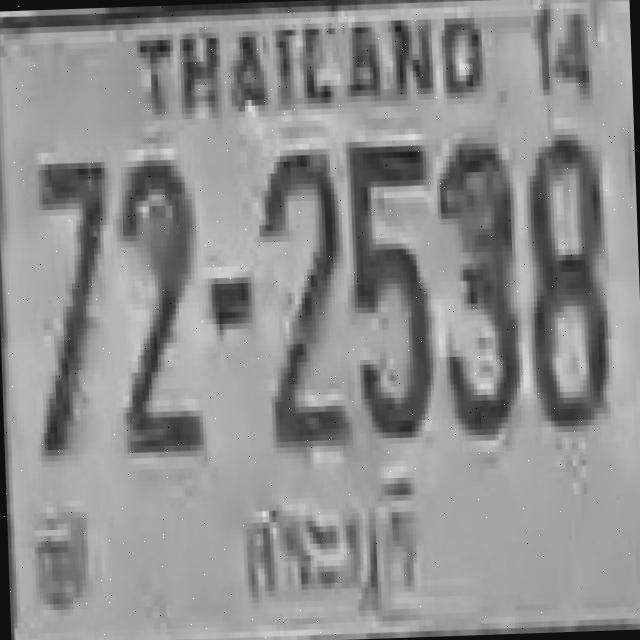2: (113, 150, 200, 450), (258, 146, 344, 444)
3: (435, 136, 518, 430)
5: (344, 133, 434, 433)
7: (31, 156, 114, 450)
8: (520, 128, 608, 422)
SaraBuri: (235, 459, 438, 630)
